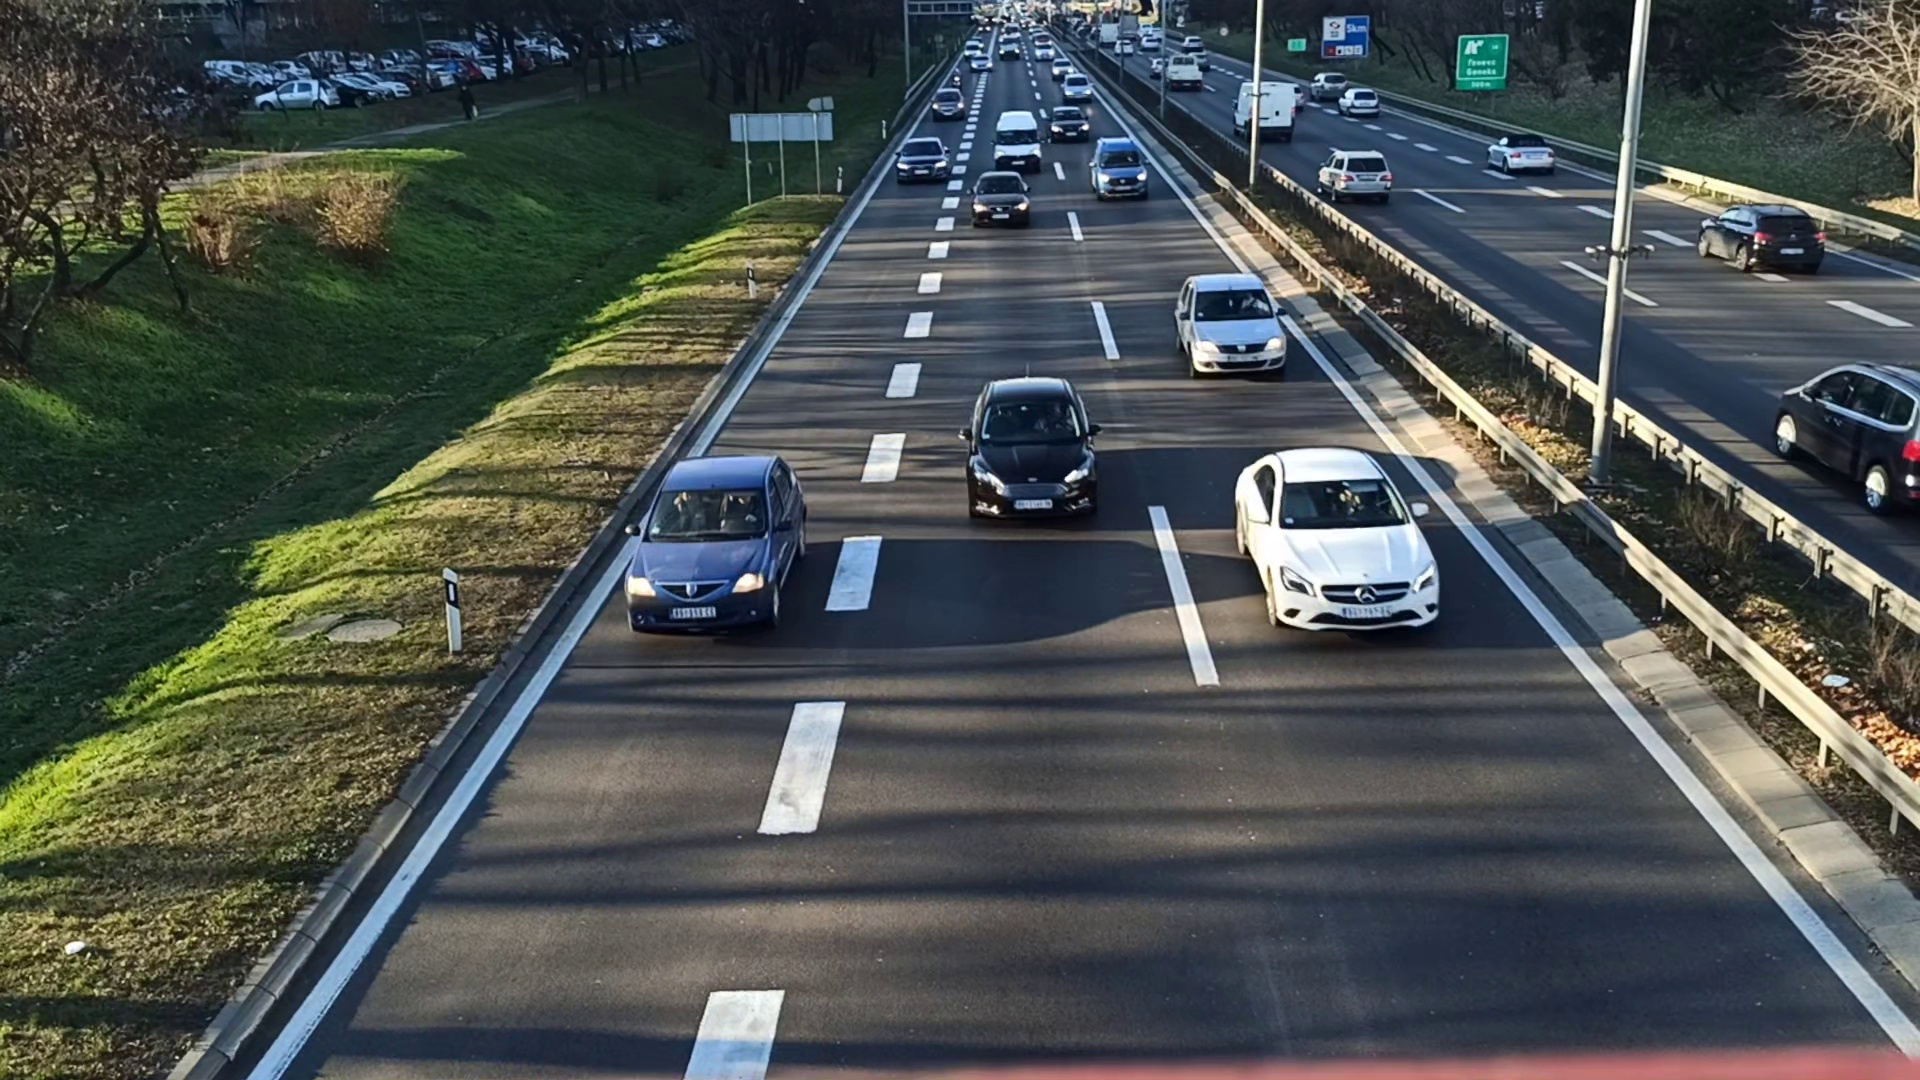car: (1228, 444, 1447, 651), (625, 455, 807, 632), (964, 375, 1101, 524), (1171, 270, 1287, 378), (1695, 200, 1828, 270), (1087, 136, 1149, 202), (1316, 149, 1391, 202), (971, 169, 1029, 222), (1485, 133, 1557, 173), (895, 137, 949, 178), (1048, 108, 1091, 142), (931, 90, 967, 119)
van: (1233, 79, 1295, 138), (994, 111, 1044, 170)
